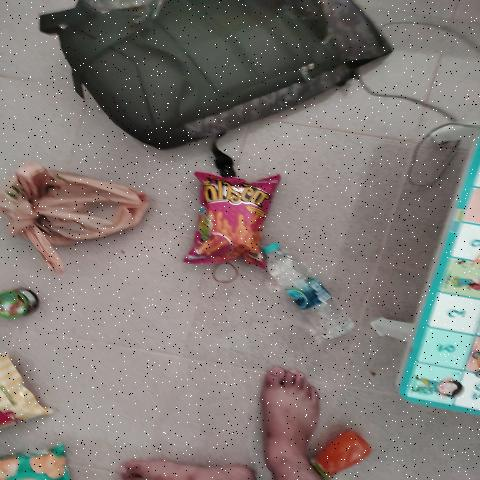crystal: (261, 240, 357, 335)
twisco: (187, 176, 264, 259)
